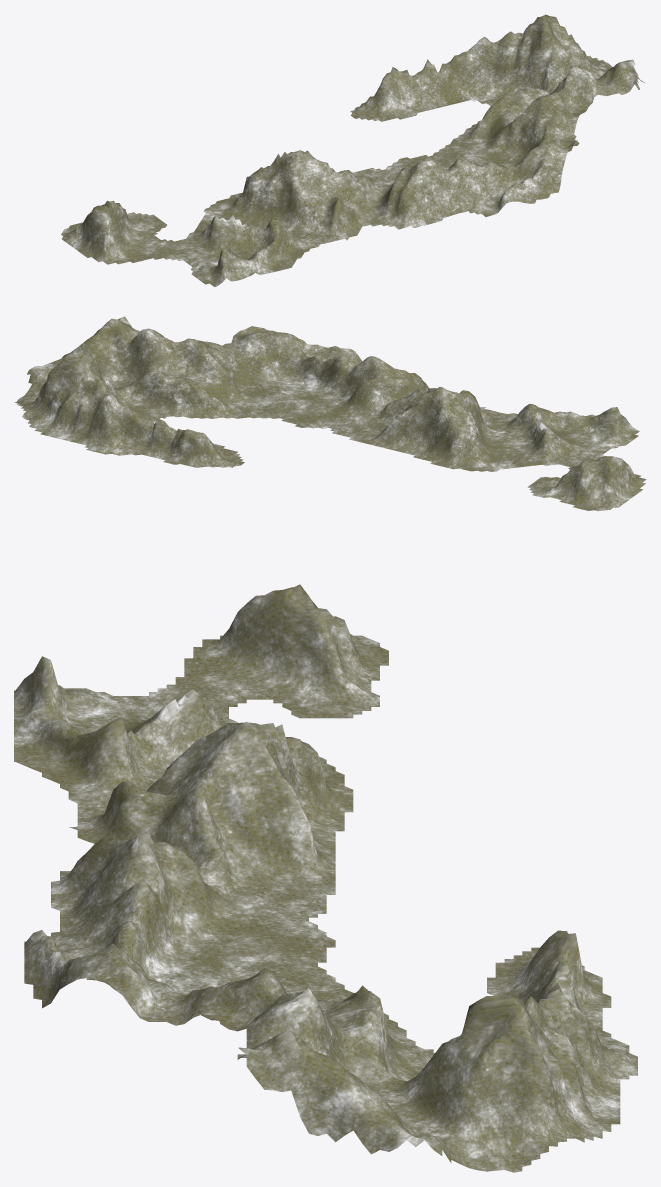
3 views of the same model, one above another, from view 1: azimuth 30°, elevation 25°; view 2: azimuth 150°, elevation 25°; view 3: azimuth 270°, elevation 25° (orthographic). The views are drawn at different scales.
Visible parts, largest first — view 1: 3d_map_comp; view 2: 3d_map_comp; view 3: 3d_map_comp.
Boxes of the visible parts, bbox=[...] form: 3d_map_comp: bbox=[61, 14, 644, 287]; 3d_map_comp: bbox=[14, 316, 646, 511]; 3d_map_comp: bbox=[14, 584, 637, 1172].
Bounding box in the file's own units: 396284 × 39479 × 193149.
Materials: 1 (1 with a texture image).
